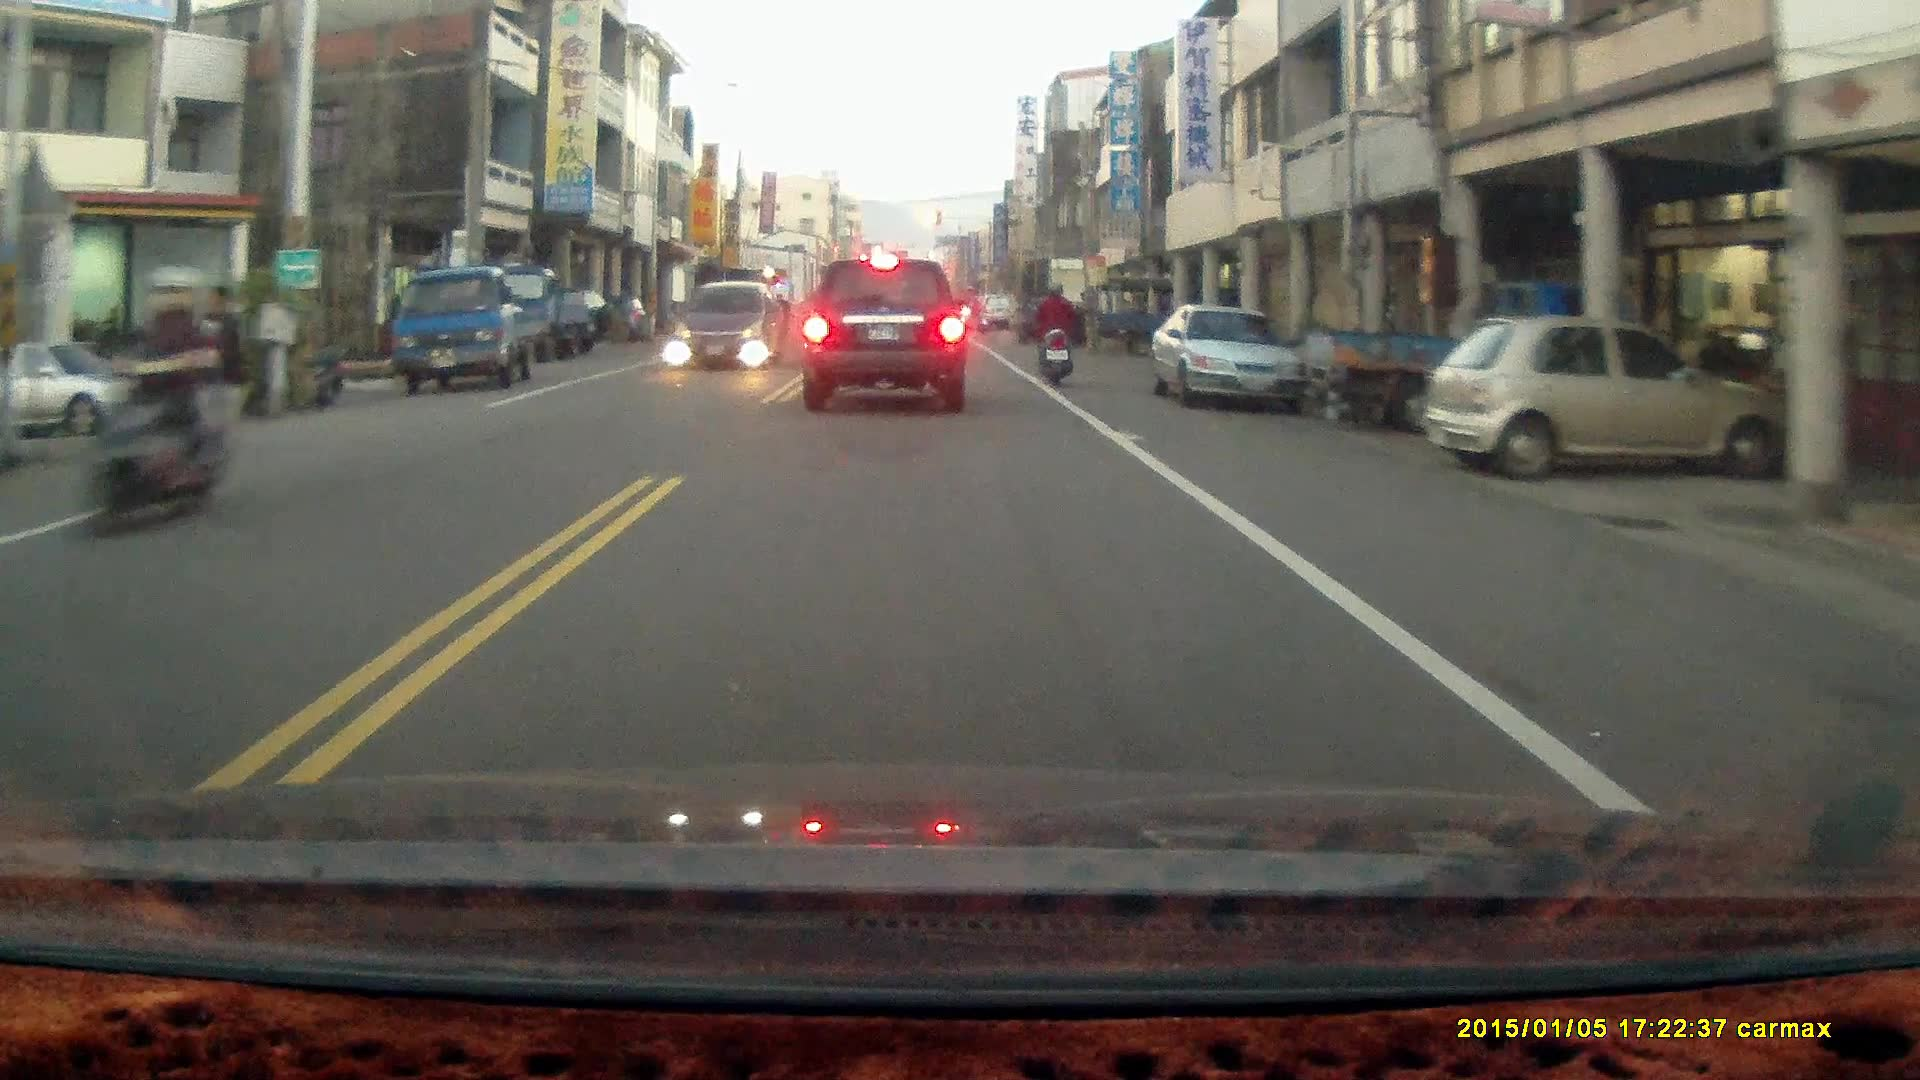pedestrian: (183, 281, 246, 458)
rider: (69, 260, 254, 543), (1033, 279, 1075, 384)
vehicle: (1436, 313, 1773, 486), (796, 253, 971, 416), (393, 265, 557, 392), (1, 337, 196, 435), (1150, 305, 1313, 409), (673, 279, 782, 369)
